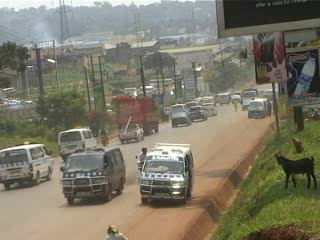Car: (166, 109, 193, 129), (187, 103, 209, 122), (204, 102, 218, 117), (230, 94, 242, 106)
Motorcycle: (133, 154, 146, 173), (98, 133, 109, 148)
